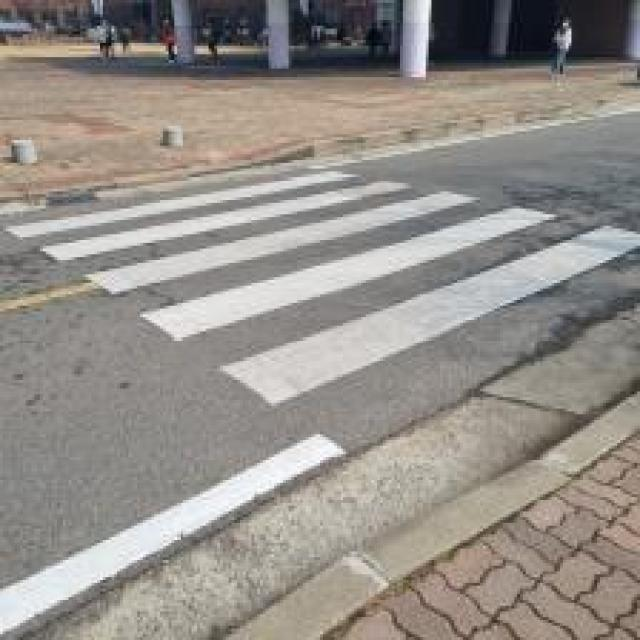walk-crossing: (5, 160, 640, 377)
